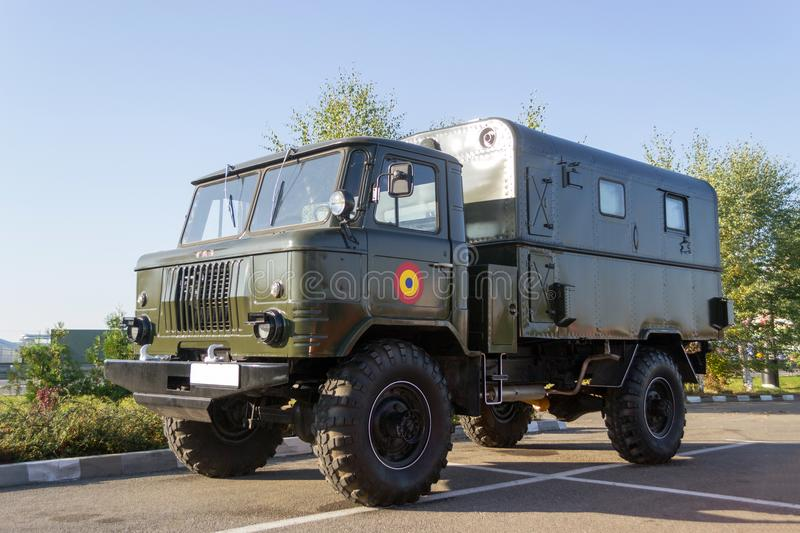camion: (101, 125, 719, 499)
